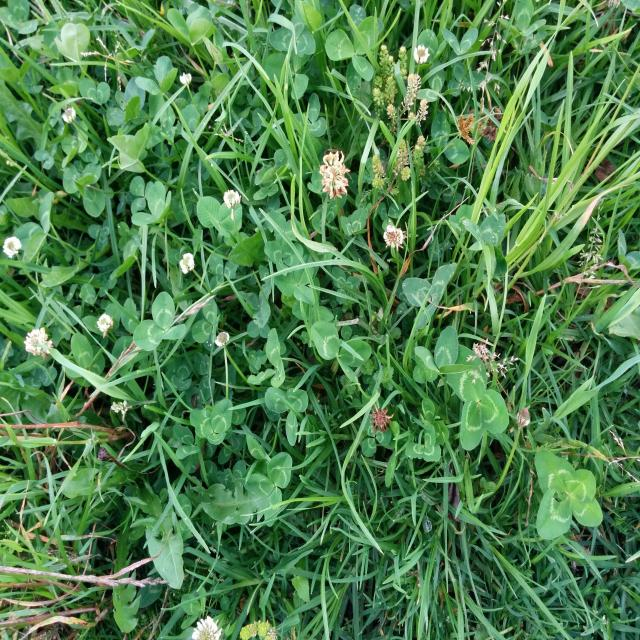Four Leaf Clover: (535, 449, 603, 540)
